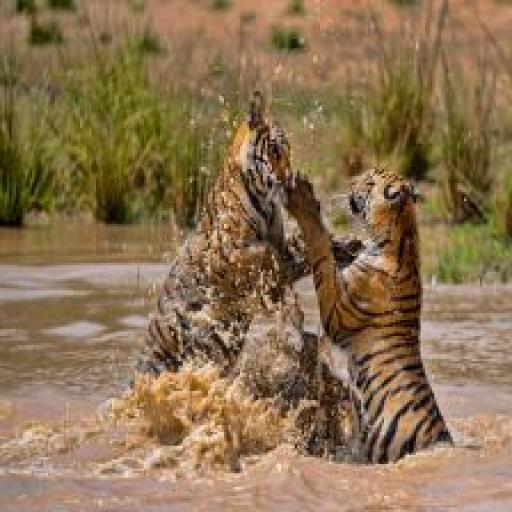Tiger: (142, 89, 450, 496)
